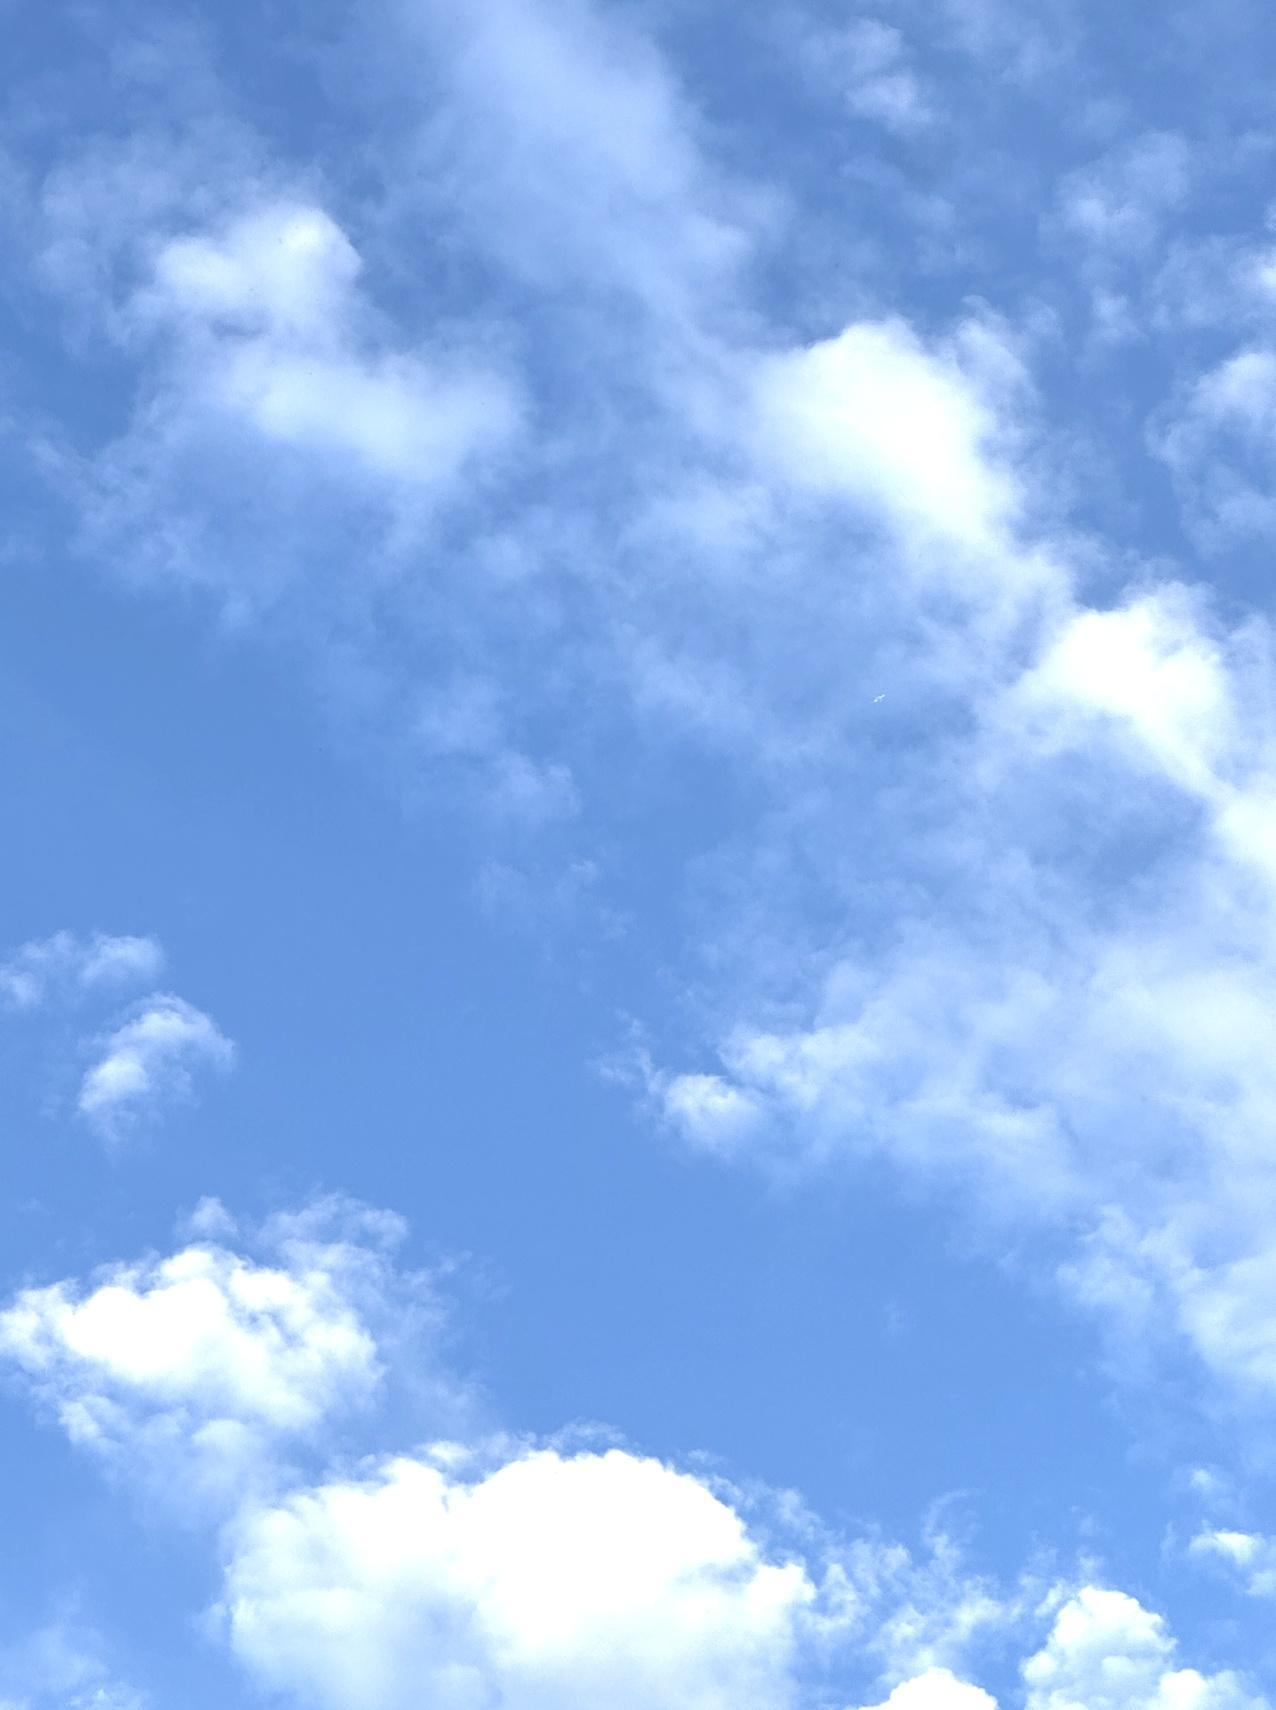Plane: (869, 673, 902, 720)
